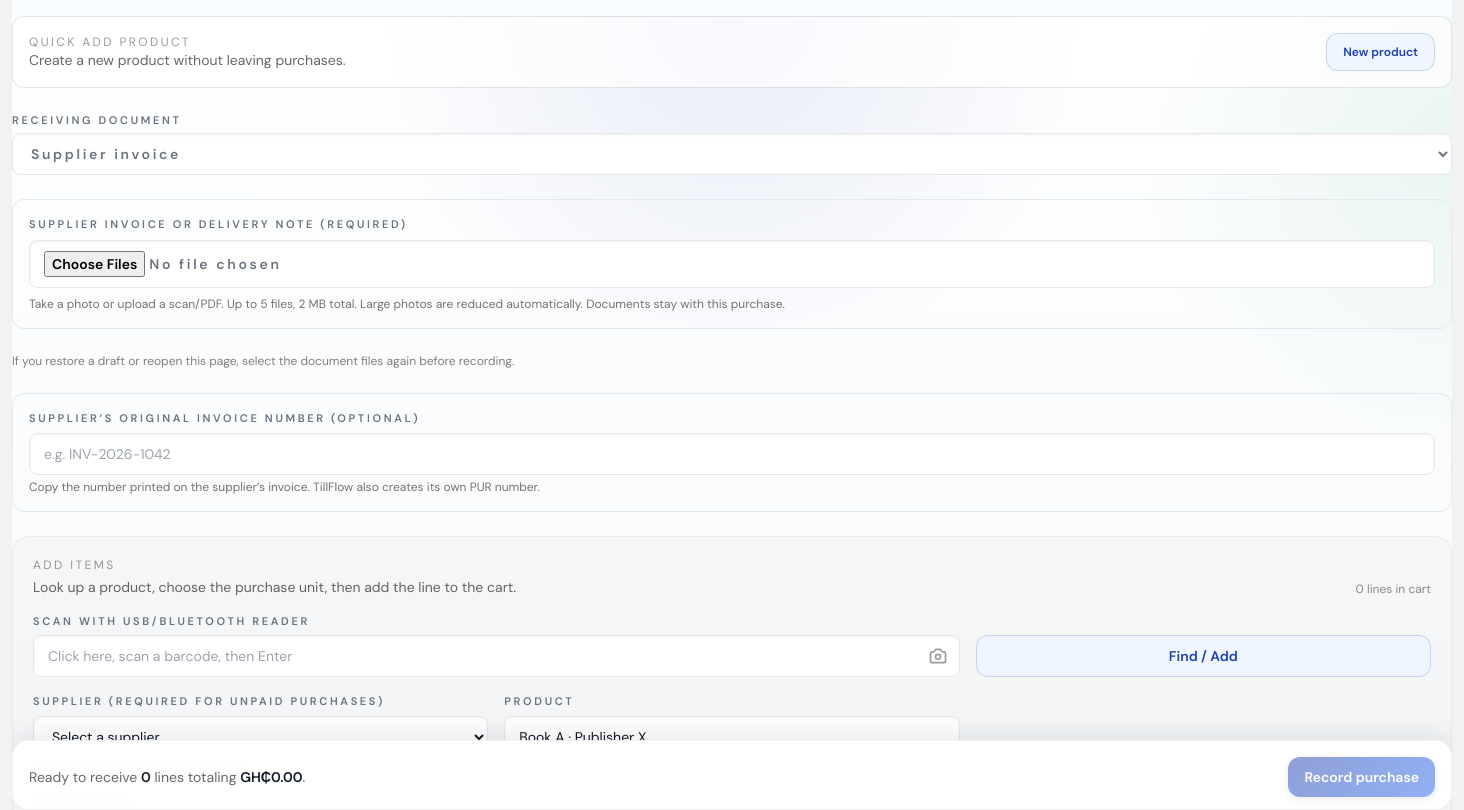
Test: unknown scans open explicit creation and preserve the scanned identifier
Type "009999" into the field labelled "Scan with USB/Bluetooth reader" at (496, 656), box [33,635,960,677]
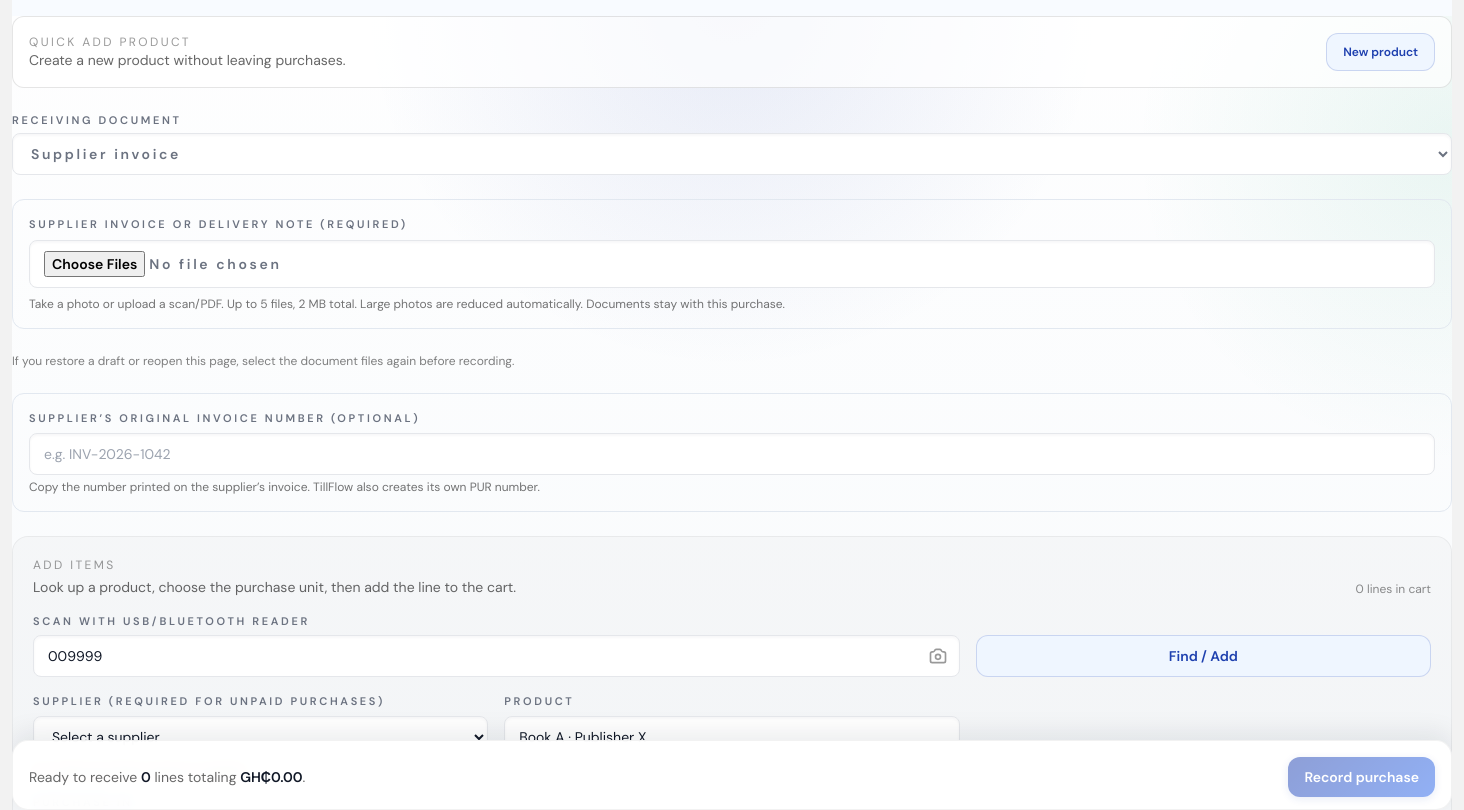
Press Enter in the field labelled "Scan with USB/Bluetooth reader", box [33,635,960,677]
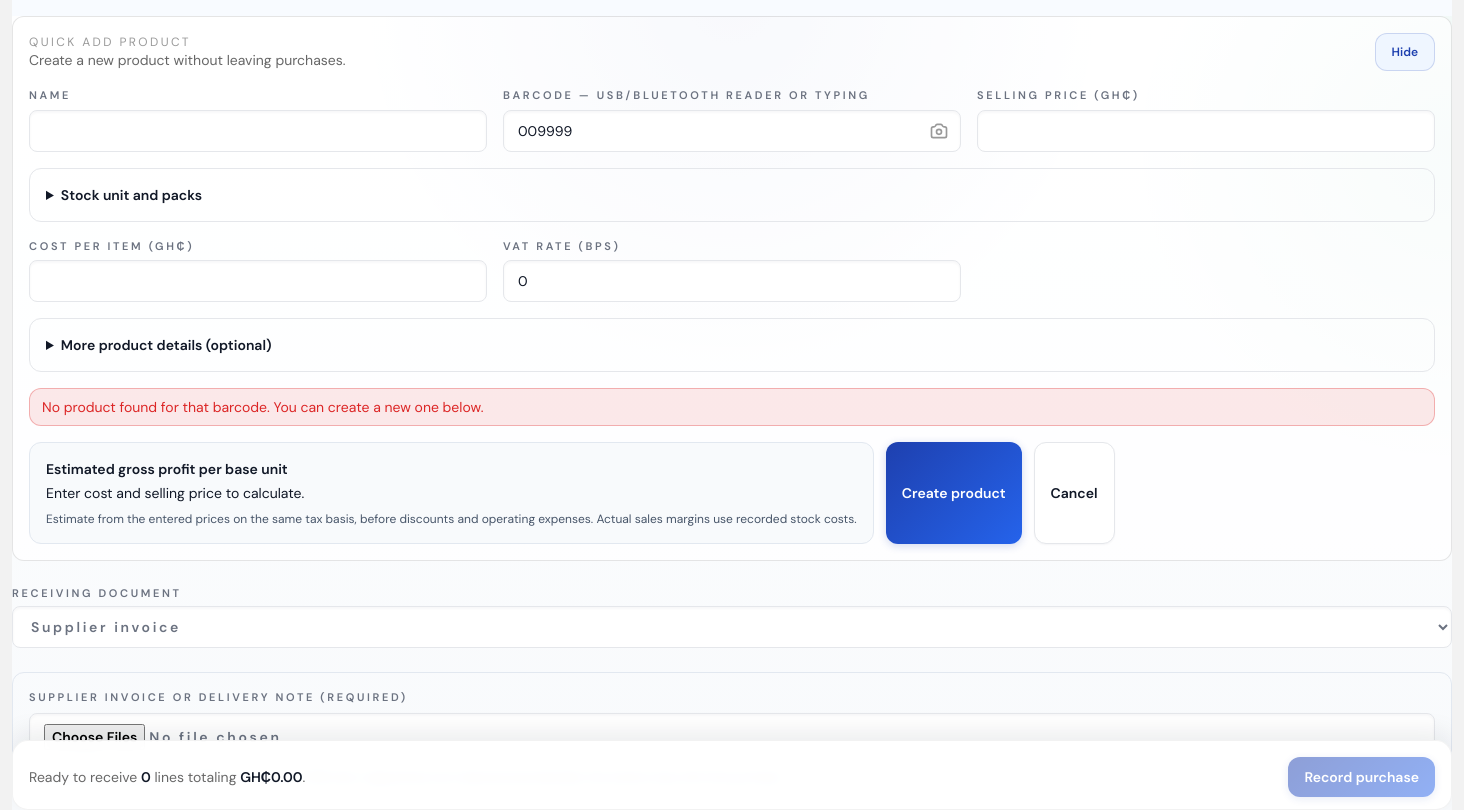
Expected: the text "No product found for that barcode" is shown, [42,398,484,416]
Expected: the field named "New product barcode — scan with USB/Bluetooth reader" holds "009999", [503,110,961,152]
